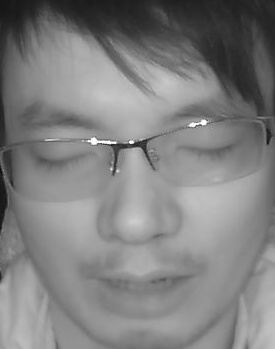blink: (36, 146, 94, 173), (179, 136, 236, 162)
glass: (143, 118, 264, 184), (2, 136, 118, 201)
mouth: (91, 259, 188, 318)
